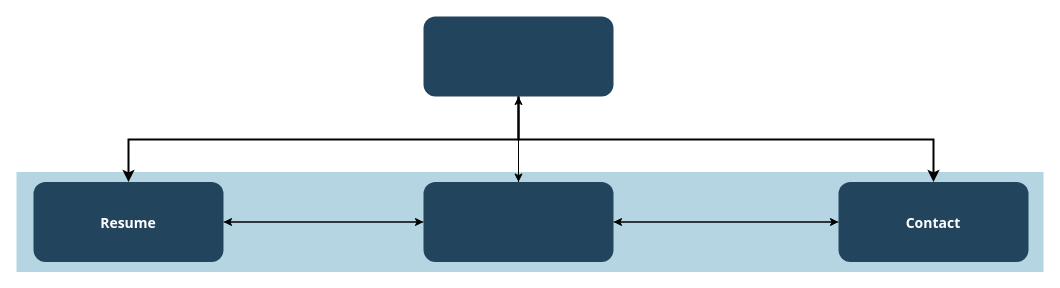
This 1060x288 diagram has some shape labels left out. The shapes that lost their labels are listed below. From the top down, each one's centre as x and y in pixels, then its label:
At [518,56]: "Home".
At [518,222]: "Projects".
